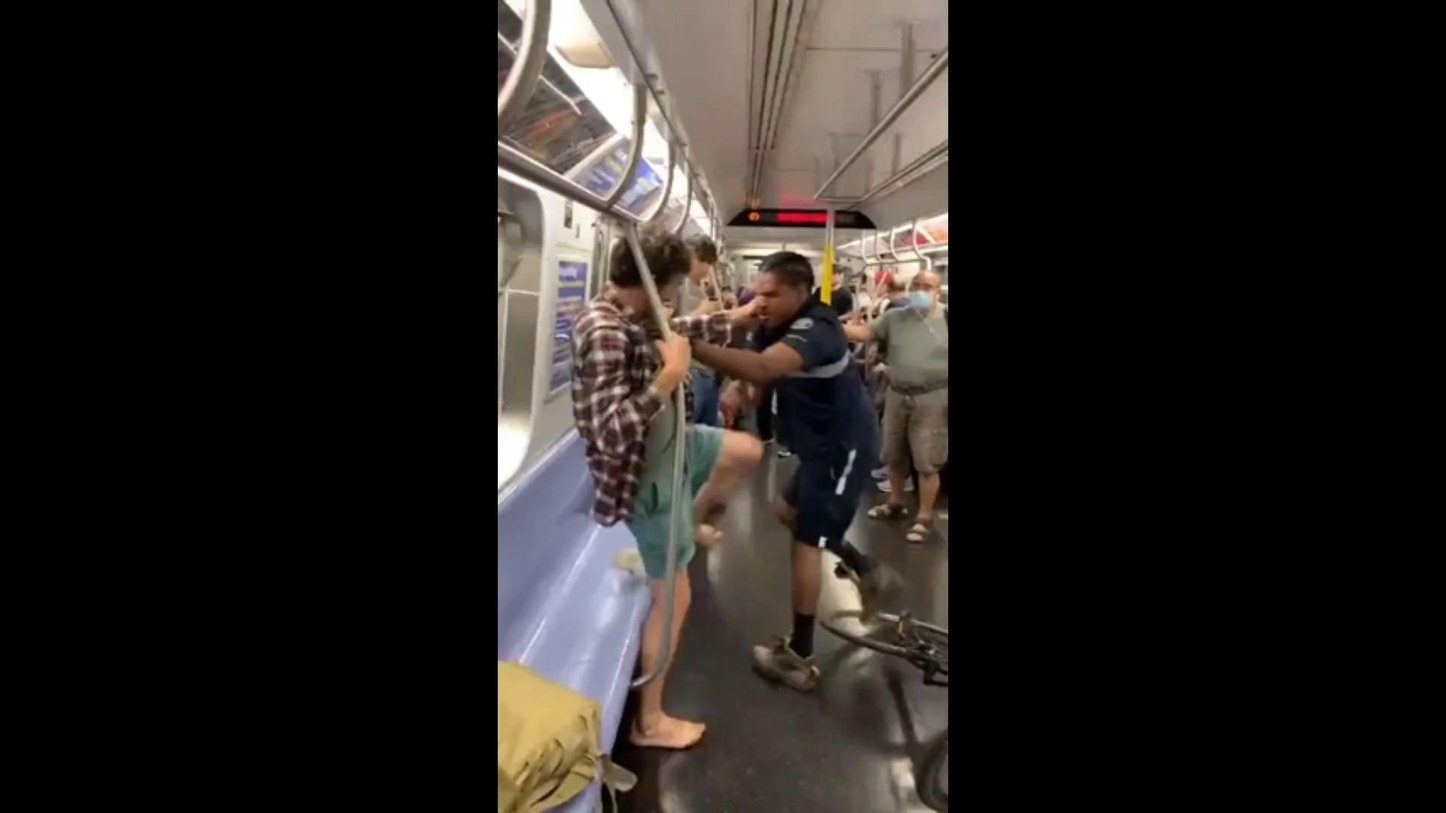non-violence: (844, 269, 949, 546), (678, 238, 722, 429), (814, 265, 853, 325)
violence: (570, 238, 883, 756)
